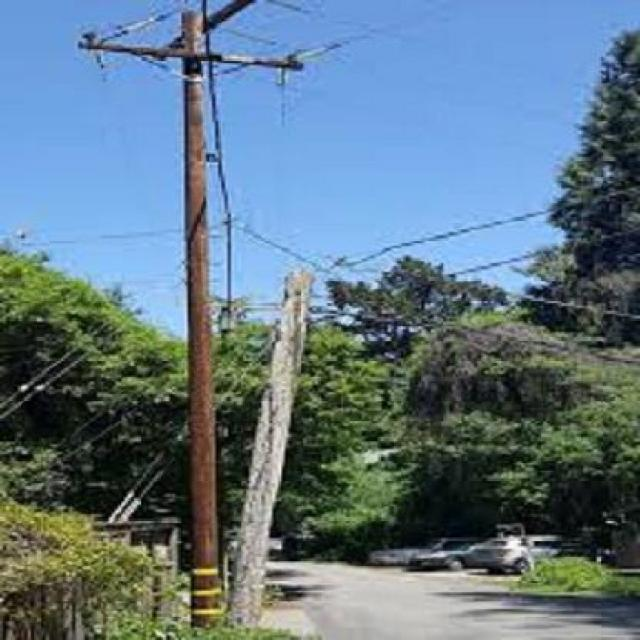pole: (78, 3, 282, 628)
